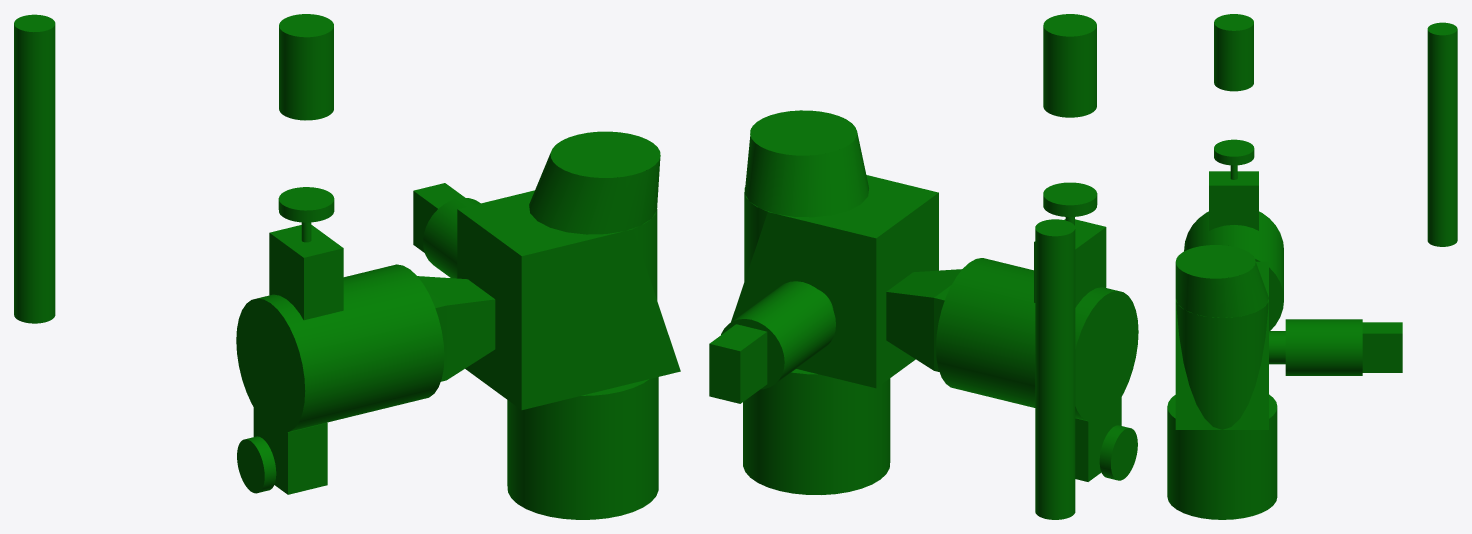
The model's file is Image-1710907555279-2281443772160_42-PF52A.fbx.
The picture shows the model from 3 angles, left to right: view 1: azimuth 30°, elevation 25°; view 2: azimuth 150°, elevation 25°; view 3: azimuth 270°, elevation 25°; orthographic projection. The views are drawn at different scales.
Parts seen in each view (by area): view 1: BOX 1 of SUBEQUIPMENT /42-PF52A/PRIM, CYLINDER 5 of SUBEQUIPMENT /42-PF52A/PRIM, CYLINDER 2 of SUBEQUIPMENT /42-PF52A/PRIM, CYLINDER 1 of SUBEQUIPMENT /42-CALIBRATION.POT/PRIM, SNOUT 1 of SUBEQUIPMENT /42-PF52A/PRIM, BOX 5 of SUBEQUIPMENT /42-PF52A/PRIM, CYLINDER 1 of SUBEQUIPMENT /42-CX52A, PYRAMID 2 of SUBEQUIPMENT /42-PF52A/PRIM, BOX 4 of SUBEQUIPMENT /42-PF52A/PRIM, PYRAMID 1 of SUBEQUIPMENT /42-PF52A/PRIM, CYLINDER 4 of SUBEQUIPMENT /42-PF52A/PRIM, /42-PF52A/N2 (+3 smaller); view 2: BOX 1 of SUBEQUIPMENT /42-PF52A/PRIM, CYLINDER 5 of SUBEQUIPMENT /42-PF52A/PRIM, CYLINDER 2 of SUBEQUIPMENT /42-PF52A/PRIM, CYLINDER 1 of SUBEQUIPMENT /42-CALIBRATION.POT/PRIM, SNOUT 1 of SUBEQUIPMENT /42-PF52A/PRIM, CYLINDER 4 of SUBEQUIPMENT /42-PF52A/PRIM, CYLINDER 1 of SUBEQUIPMENT /42-CX52A, PYRAMID 2 of SUBEQUIPMENT /42-PF52A/PRIM, BOX 2 of SUBEQUIPMENT /42-PF52A/PRIM, BOX 5 of SUBEQUIPMENT /42-PF52A/PRIM, BOX 4 of SUBEQUIPMENT /42-PF52A/PRIM, /42-PF52A/N1 (+3 smaller); view 3: CYLINDER 2 of SUBEQUIPMENT /42-PF52A/PRIM, CYLINDER 1 of SUBEQUIPMENT /42-PF52A/PRIM, CYLINDER 1 of SUBEQUIPMENT /42-CALIBRATION.POT/PRIM, SNOUT 1 of SUBEQUIPMENT /42-PF52A/PRIM, CYLINDER 4 of SUBEQUIPMENT /42-PF52A/PRIM, CYLINDER 5 of SUBEQUIPMENT /42-PF52A/PRIM, PYRAMID 1 of SUBEQUIPMENT /42-PF52A/PRIM, CYLINDER 1 of SUBEQUIPMENT /42-CX52A, BOX 5 of SUBEQUIPMENT /42-PF52A/PRIM, BOX 2 of SUBEQUIPMENT /42-PF52A/PRIM, /42-PF52A/N2, CYLINDER 3 of SUBEQUIPMENT /42-PF52A/PRIM.
Boxes of the visible parts, <box> form: BOX 1 of SUBEQUIPMENT /42-PF52A/PRIM: <box>457,190,633,409</box>; CYLINDER 5 of SUBEQUIPMENT /42-PF52A/PRIM: <box>236,264,444,432</box>; CYLINDER 2 of SUBEQUIPMENT /42-PF52A/PRIM: <box>507,377,658,519</box>; CYLINDER 1 of SUBEQUIPMENT /42-CALIBRATION.POT/PRIM: <box>14,14,55,323</box>; SNOUT 1 of SUBEQUIPMENT /42-PF52A/PRIM: <box>529,131,660,234</box>; BOX 5 of SUBEQUIPMENT /42-PF52A/PRIM: <box>269,225,343,320</box>; CYLINDER 1 of SUBEQUIPMENT /42-CX52A: <box>279,14,333,120</box>; PYRAMID 2 of SUBEQUIPMENT /42-PF52A/PRIM: <box>417,276,495,379</box>; BOX 4 of SUBEQUIPMENT /42-PF52A/PRIM: <box>253,407,327,494</box>; PYRAMID 1 of SUBEQUIPMENT /42-PF52A/PRIM: <box>633,230,680,382</box>; CYLINDER 4 of SUBEQUIPMENT /42-PF52A/PRIM: <box>423,197,480,278</box>; /42-PF52A/N2: <box>278,187,334,242</box>; BOX 1 of SUBEQUIPMENT /42-PF52A/PRIM: <box>768,175,938,388</box>; CYLINDER 5 of SUBEQUIPMENT /42-PF52A/PRIM: <box>936,258,1138,420</box>; CYLINDER 2 of SUBEQUIPMENT /42-PF52A/PRIM: <box>743,369,890,494</box>; CYLINDER 1 of SUBEQUIPMENT /42-CALIBRATION.POT/PRIM: <box>1035,219,1075,519</box>; SNOUT 1 of SUBEQUIPMENT /42-PF52A/PRIM: <box>744,110,868,217</box>; CYLINDER 4 of SUBEQUIPMENT /42-PF52A/PRIM: <box>721,281,835,389</box>; CYLINDER 1 of SUBEQUIPMENT /42-CX52A: <box>1043,14,1096,117</box>; PYRAMID 2 of SUBEQUIPMENT /42-PF52A/PRIM: <box>886,269,962,370</box>; BOX 2 of SUBEQUIPMENT /42-PF52A/PRIM: <box>709,324,767,403</box>; BOX 5 of SUBEQUIPMENT /42-PF52A/PRIM: <box>1034,219,1106,307</box>; BOX 4 of SUBEQUIPMENT /42-PF52A/PRIM: <box>1075,397,1121,481</box>; /42-PF52A/N1: <box>1099,425,1137,480</box>; CYLINDER 2 of SUBEQUIPMENT /42-PF52A/PRIM: <box>1167,394,1277,519</box>; CYLINDER 1 of SUBEQUIPMENT /42-PF52A/PRIM: <box>1176,301,1268,429</box>; CYLINDER 1 of SUBEQUIPMENT /42-CALIBRATION.POT/PRIM: <box>1427,22,1457,246</box>; SNOUT 1 of SUBEQUIPMENT /42-PF52A/PRIM: <box>1175,245,1268,317</box>; CYLINDER 4 of SUBEQUIPMENT /42-PF52A/PRIM: <box>1285,319,1362,375</box>; CYLINDER 5 of SUBEQUIPMENT /42-PF52A/PRIM: <box>1184,211,1283,330</box>; PYRAMID 1 of SUBEQUIPMENT /42-PF52A/PRIM: <box>1175,301,1268,429</box>; CYLINDER 1 of SUBEQUIPMENT /42-CX52A: <box>1214,14,1253,91</box>; BOX 5 of SUBEQUIPMENT /42-PF52A/PRIM: <box>1209,171,1258,230</box>; BOX 2 of SUBEQUIPMENT /42-PF52A/PRIM: <box>1362,322,1402,372</box>; /42-PF52A/N2: <box>1214,139,1254,179</box>; CYLINDER 3 of SUBEQUIPMENT /42-PF52A/PRIM: <box>1269,331,1285,364</box>.
Size of the model in its own units: 1.21 by 0.87 by 1.25.
